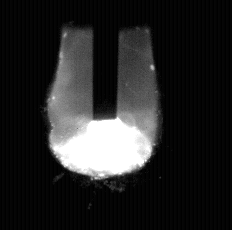arame: (93, 0, 119, 121)
poca: (50, 0, 157, 230)
